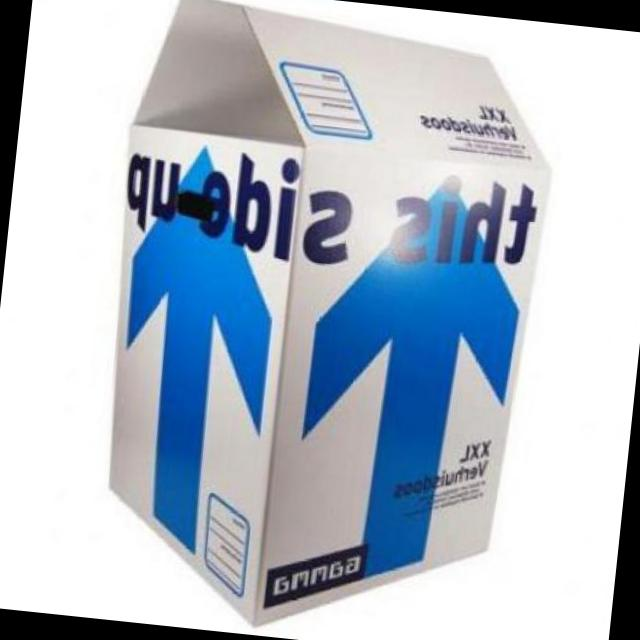box: (78, 0, 569, 640)
